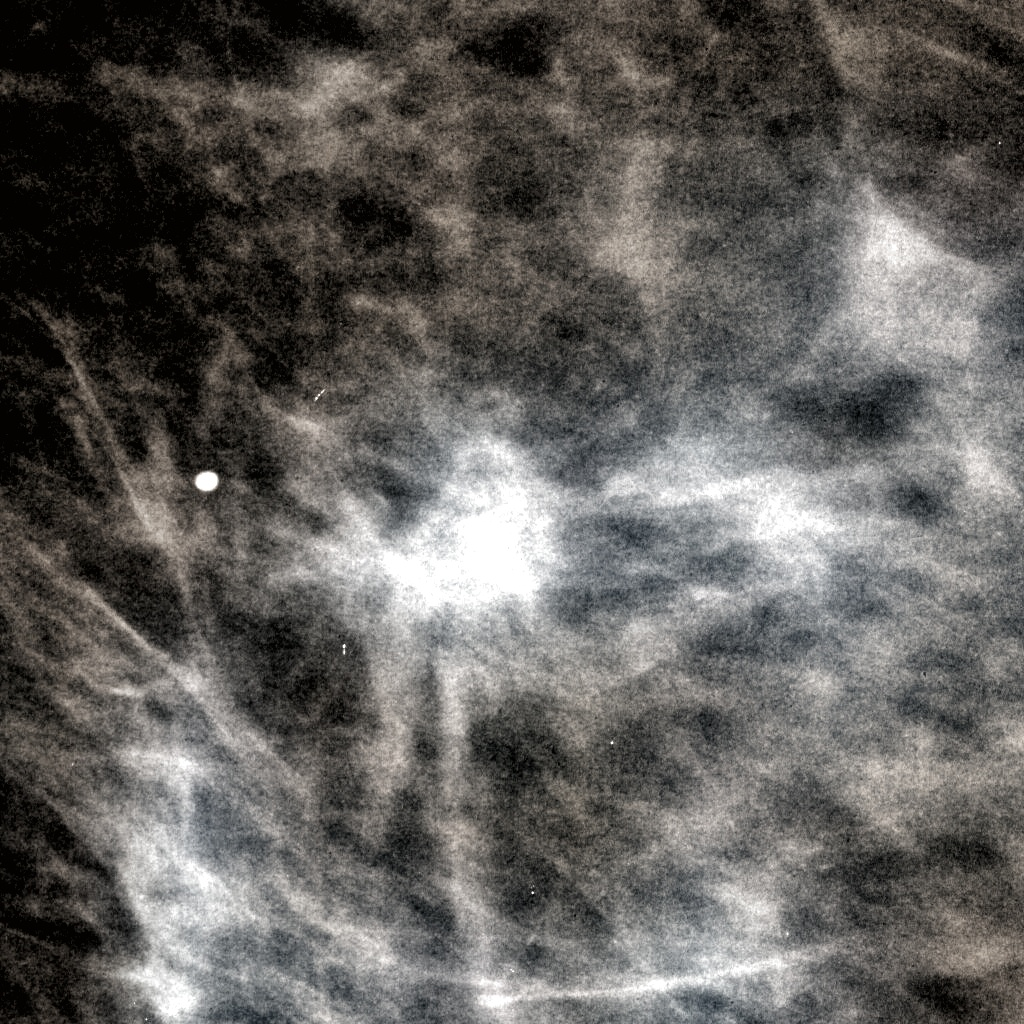tumor: (344, 383, 680, 641)
